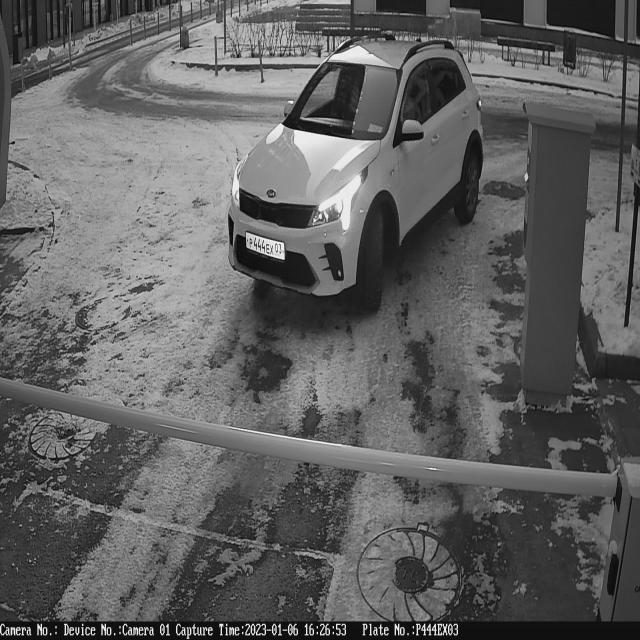car-plate-numbers: (245, 232, 288, 267)
